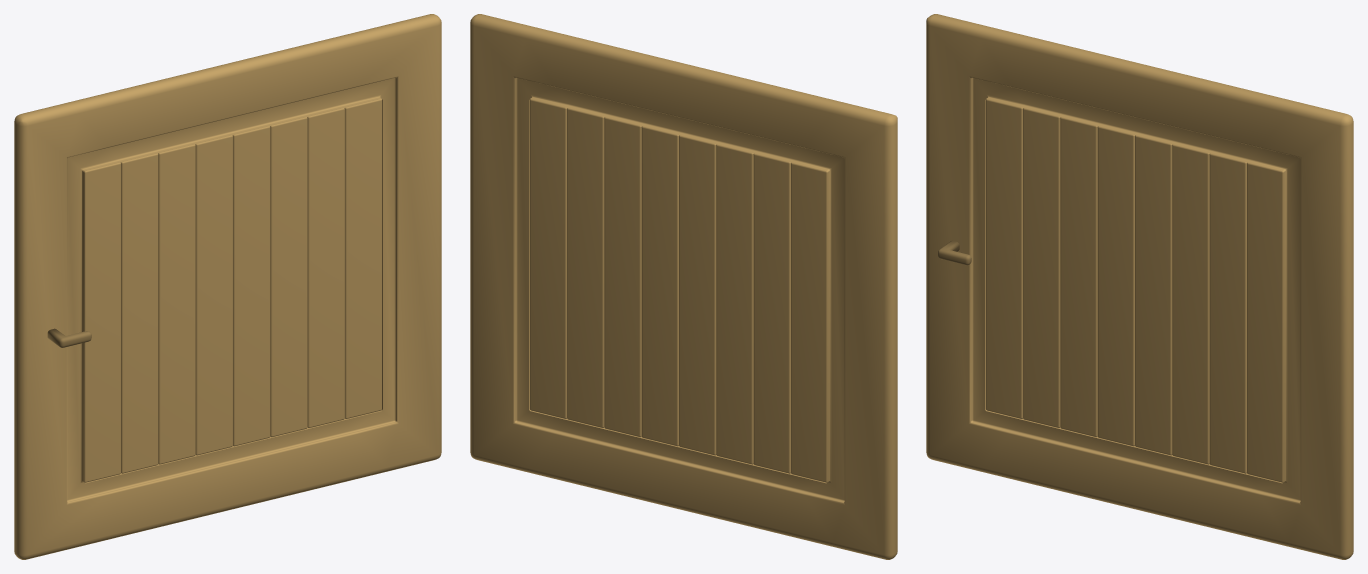
Rendered from Porta.fbx.
The picture shows the model from 3 angles, left to right: view 1: azimuth 30°, elevation 25°; view 2: azimuth 150°, elevation 25°; view 3: azimuth 330°, elevation 25°; orthographic projection.
Parts seen in each view (by area): view 1: Cube.003; view 2: Cube.003; view 3: Cube.003.
Boxes of the visible parts, x1,y1,x2,y2 form: Cube.003: [14, 14, 441, 559]; Cube.003: [470, 14, 897, 559]; Cube.003: [926, 14, 1353, 559].
Bounding box in the file's own units: 62.08 × 62.08 × 6.07.
